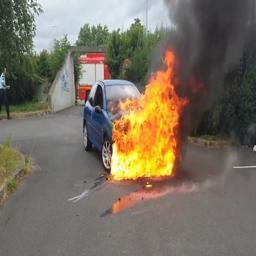fire: (112, 49, 189, 180)
